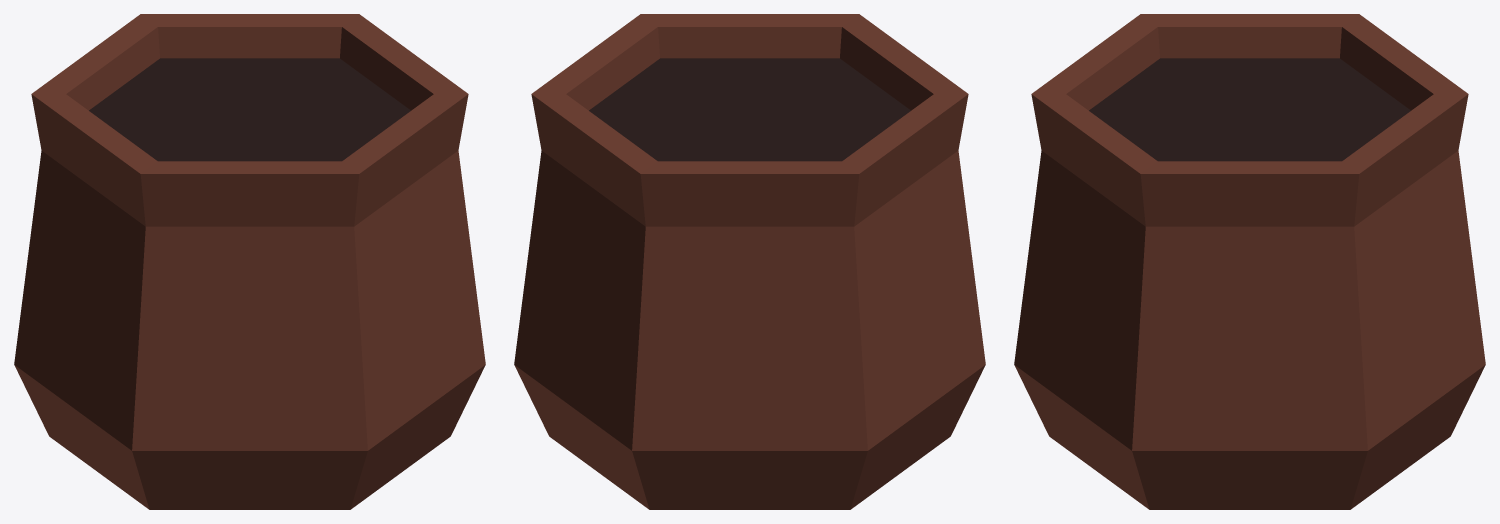
File: MBJ_PlantPack01_Pot02_LOD1_v001.fbx
The picture shows the model from 3 angles, left to right: view 1: azimuth 30°, elevation 25°; view 2: azimuth 150°, elevation 25°; view 3: azimuth 270°, elevation 25°; orthographic projection.
Visible parts, largest first — view 1: PlantPot02_A.001; view 2: PlantPot02_A.001; view 3: PlantPot02_A.001.
Boxes of the visible parts, left/top/right/bottom form: PlantPot02_A.001: left=14, top=14, right=485, bottom=509; PlantPot02_A.001: left=514, top=14, right=985, bottom=509; PlantPot02_A.001: left=1014, top=14, right=1485, bottom=509.
Size of the model in its own units: 49.69 by 45.96 by 57.37.
